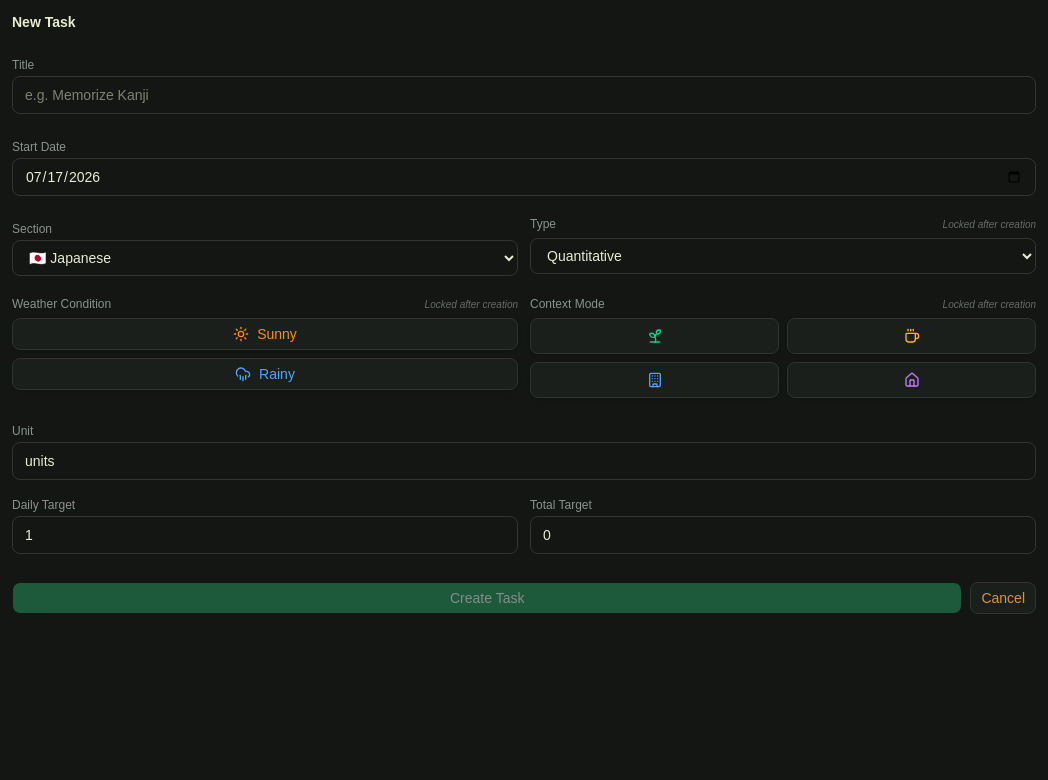
Test: TaskForm › hides dailyTarget input when task type is boolean
This screenshot has width=1048, height=780.
# Switch type to boolean
Select "Boolean (Yes/No)" in the dropdown labelled "Type" at (783, 256), box [530, 238, 1036, 274]
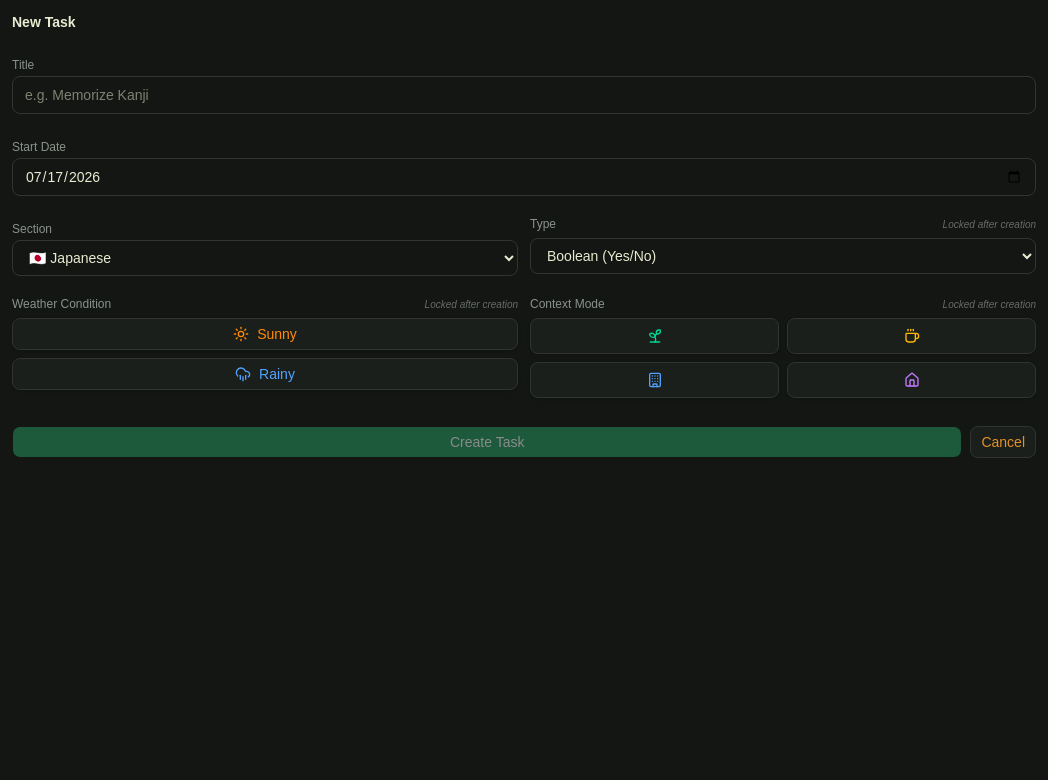
Now the label labelled "Daily Target" is gone
